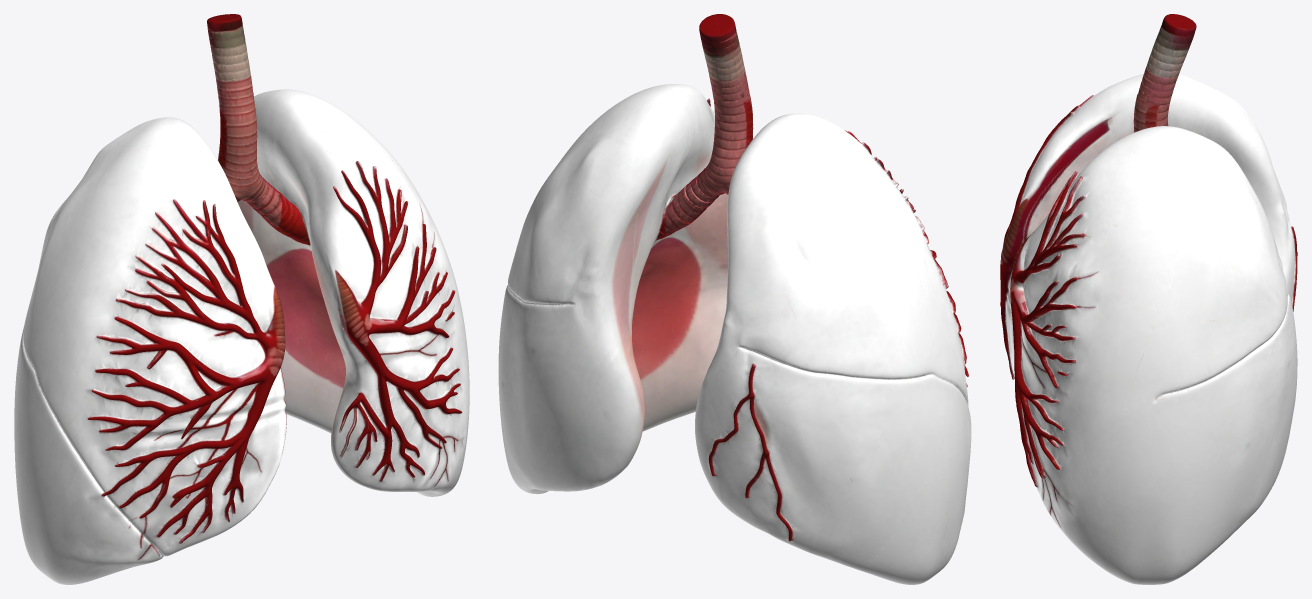
Rendered from new-lungs.glb.
3 views of the same model, side by side, from view 1: azimuth 30°, elevation 25°; view 2: azimuth 150°, elevation 25°; view 3: azimuth 270°, elevation 25° (orthographic). The views are drawn at different scales.
Visible parts, largest first — view 1: Mesh_0; view 2: Mesh_0; view 3: Mesh_0.
Boxes of the visible parts, <box> form: Mesh_0: <box>14,14,469,584</box>; Mesh_0: <box>498,14,971,584</box>; Mesh_0: <box>1000,14,1297,584</box>.
Size of the model in its own units: 0.1046 by 0.12 by 0.0672.
Materials: 1 (1 with a texture image).
